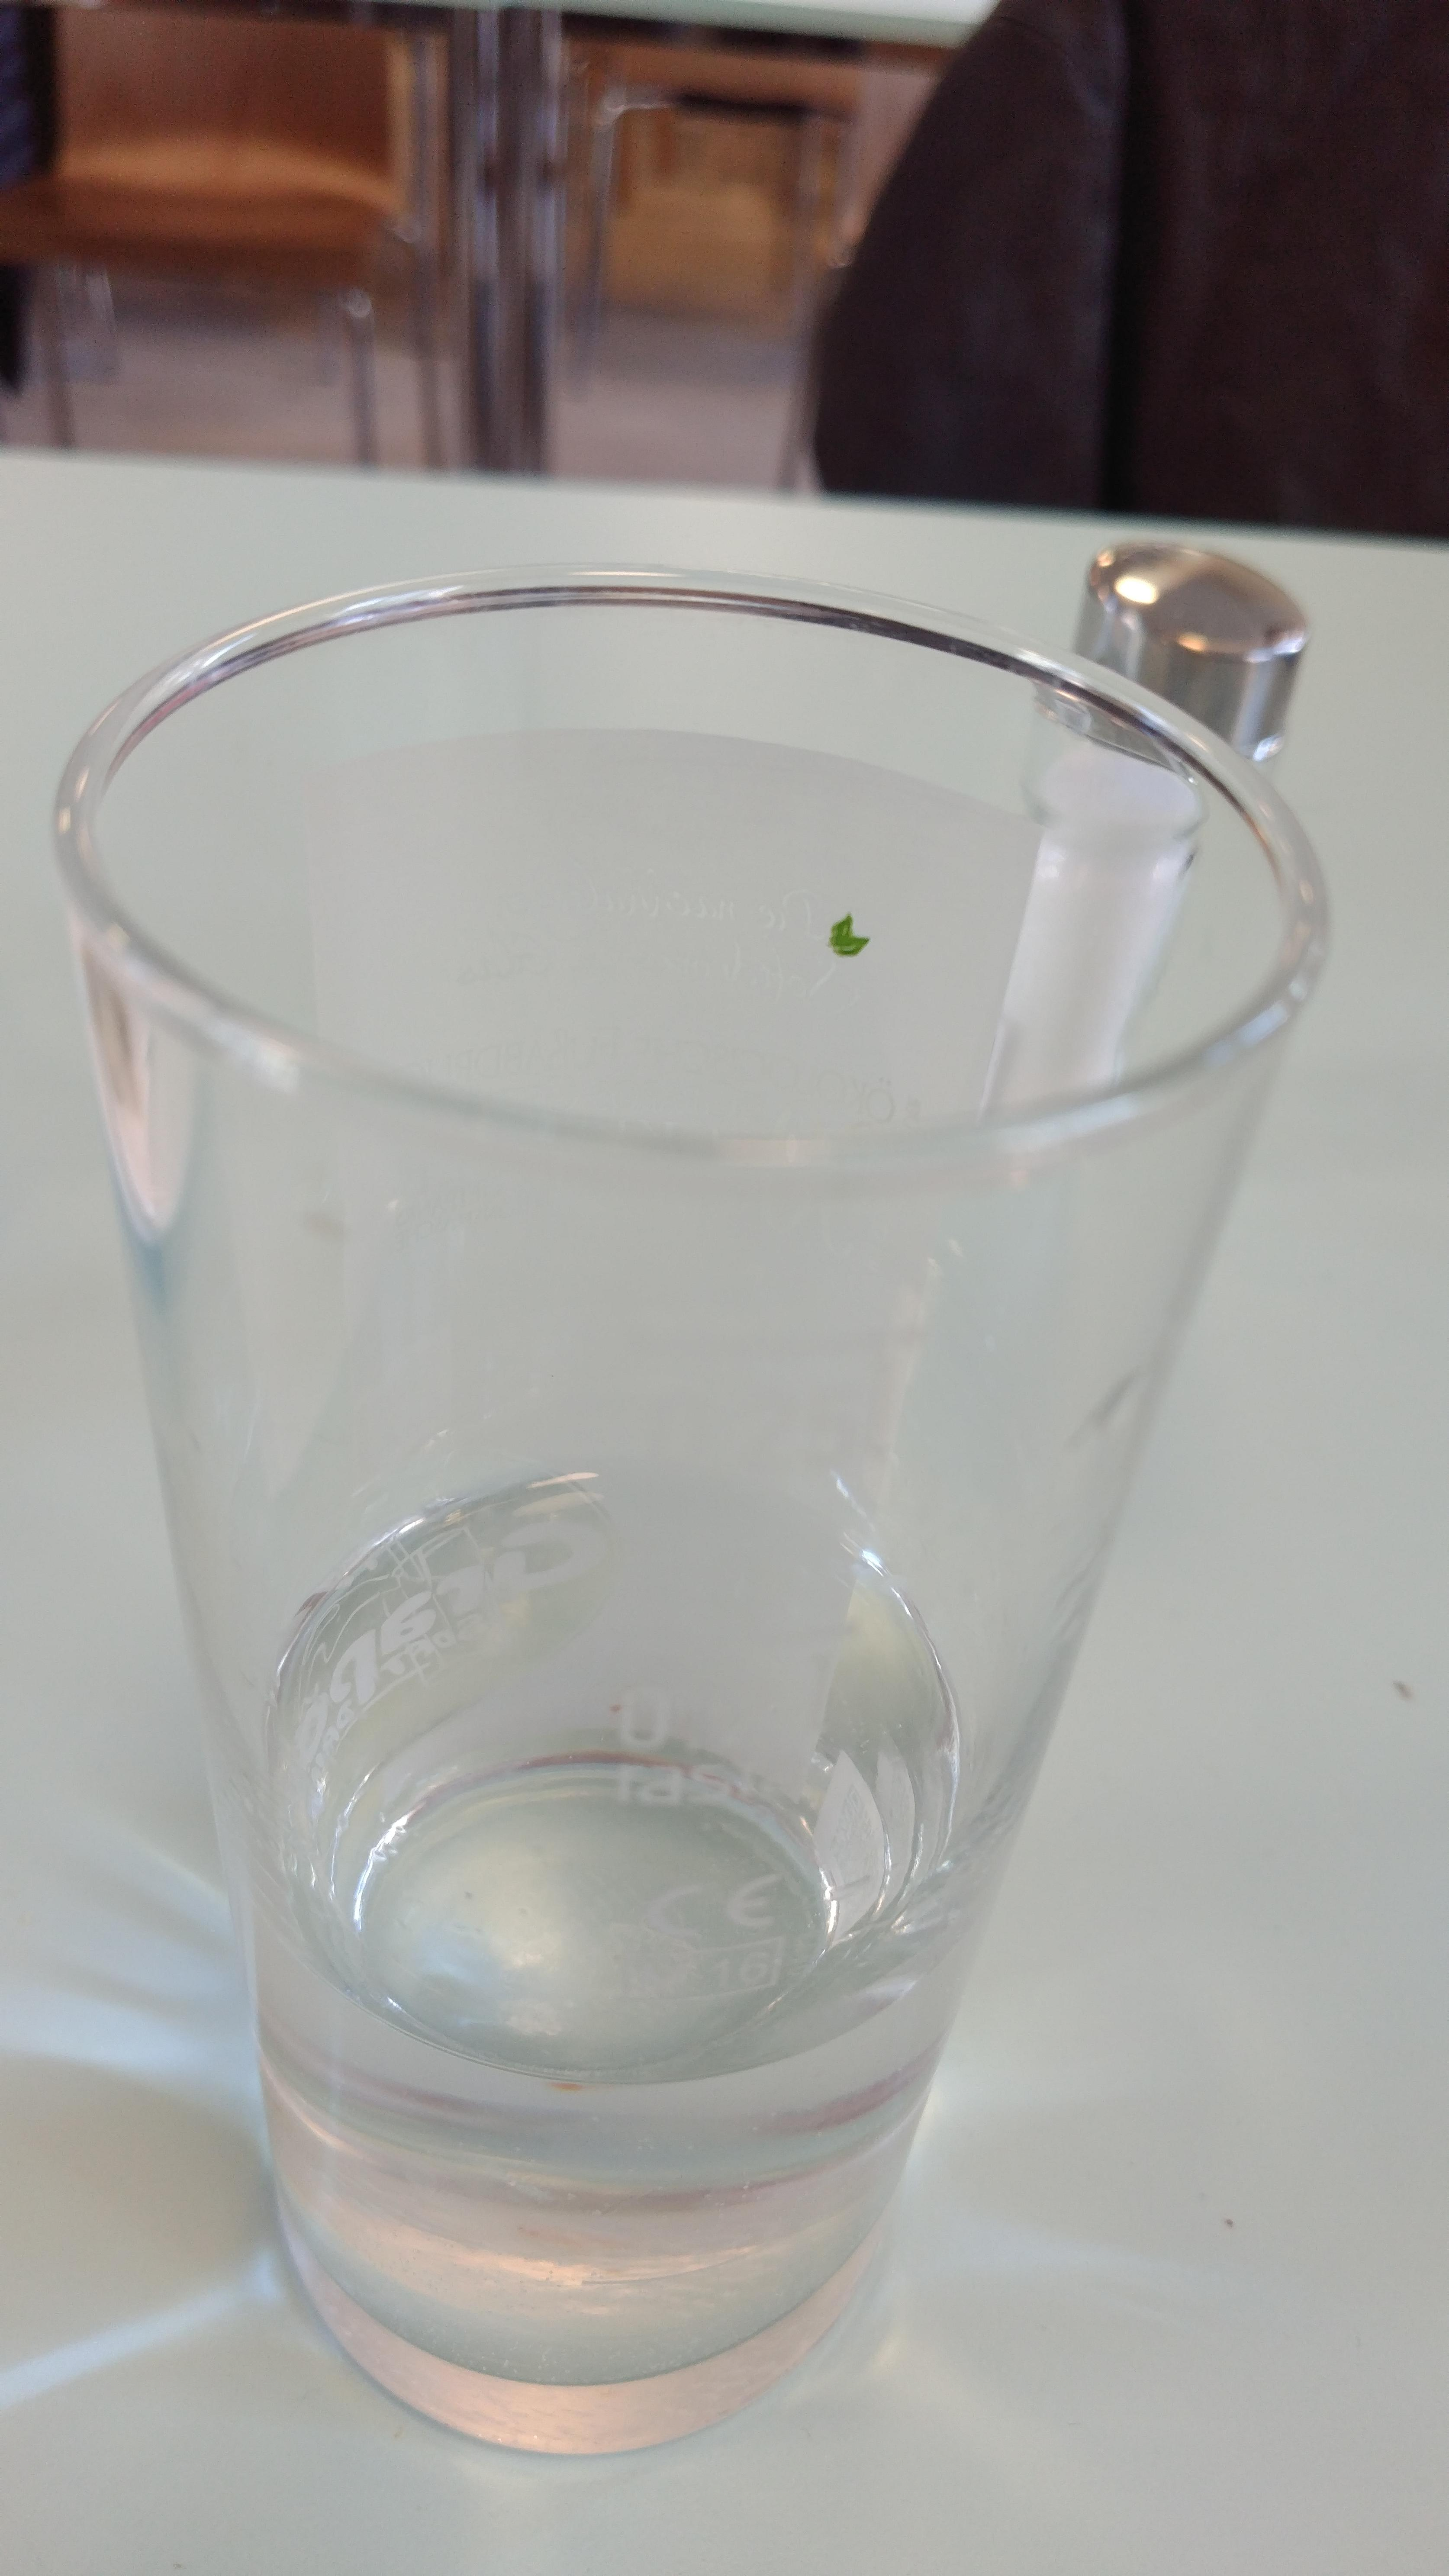glass: (21, 520, 1355, 2466)
